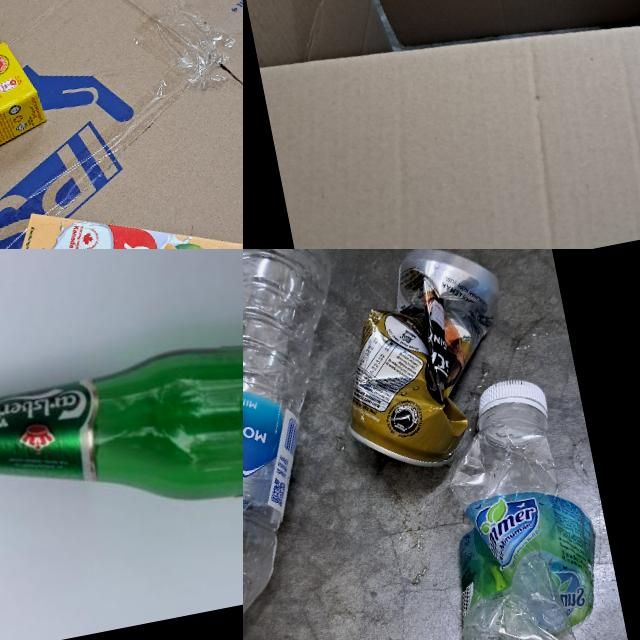garrafa de vidro: (0, 313, 243, 585)
garrafa plástica: (243, 249, 395, 640), (427, 415, 630, 640)
lata: (321, 249, 525, 487)
papelão: (243, 0, 640, 249), (0, 0, 243, 249), (0, 34, 54, 208)
tampa plástica: (476, 372, 554, 427)
